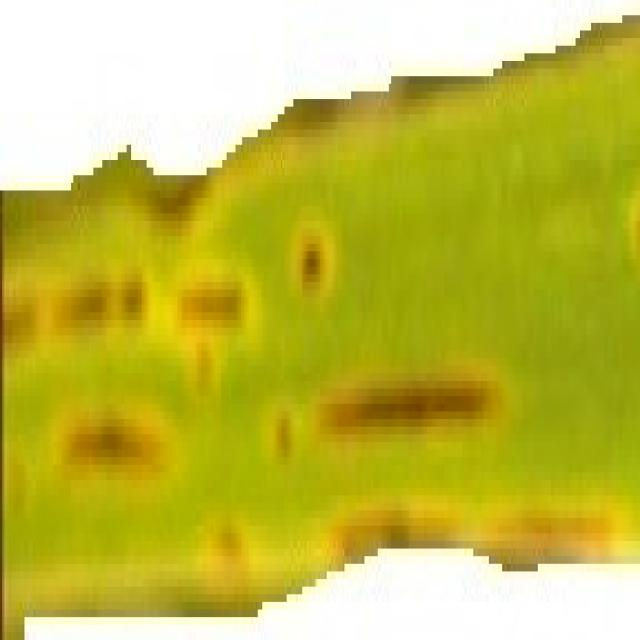brown spot: (325, 490, 639, 573), (318, 342, 510, 456), (49, 389, 192, 485), (166, 246, 266, 343), (0, 228, 61, 368), (47, 255, 123, 363), (182, 491, 268, 576), (250, 378, 309, 492), (114, 237, 156, 347), (290, 217, 338, 313), (622, 152, 640, 259)
